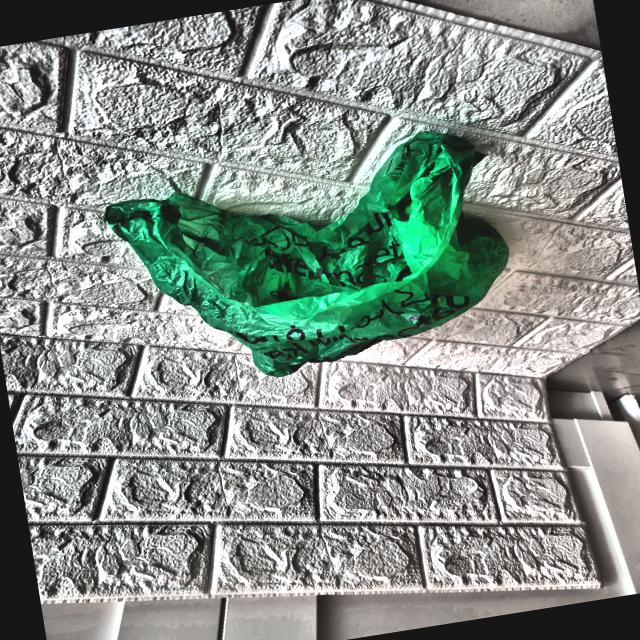plastic bag: (82, 92, 542, 408)
